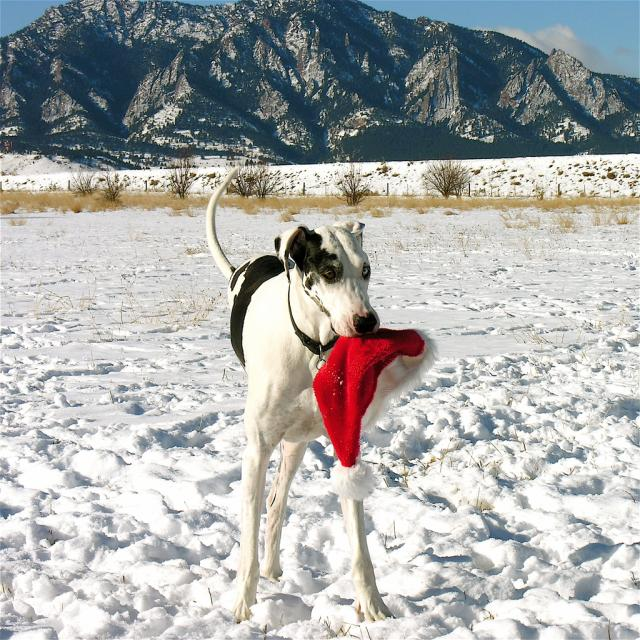Dog: (205, 166, 396, 623)
